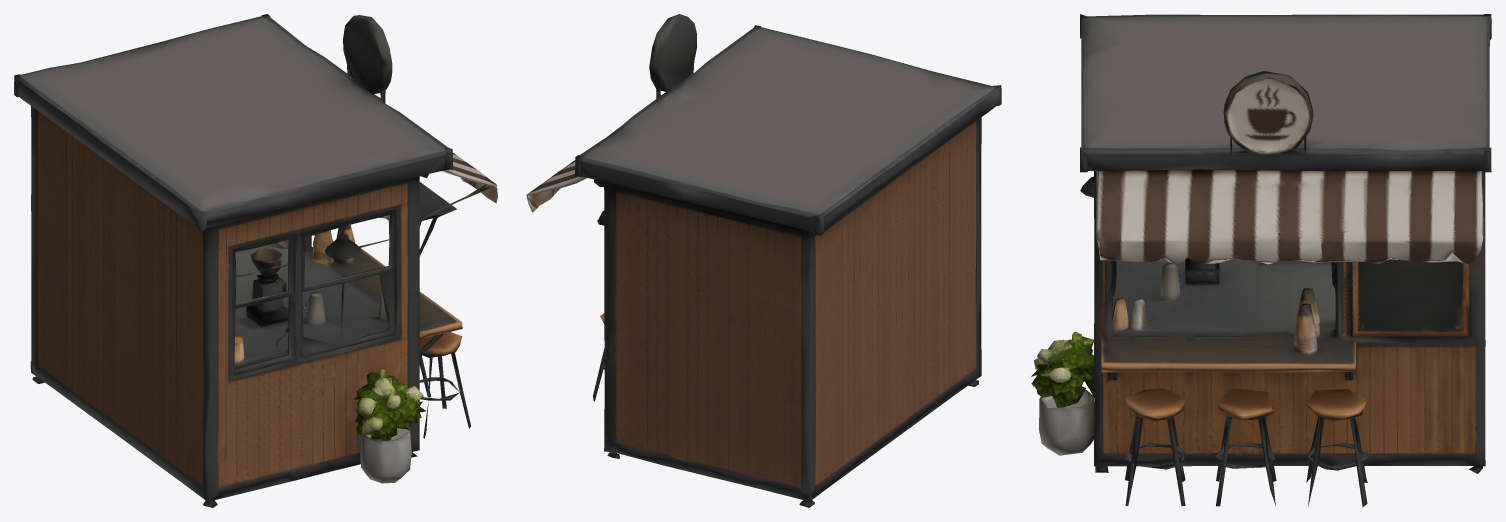
The model's file is kiosk.glb.
The picture shows the model from 3 angles, left to right: view 1: azimuth 30°, elevation 25°; view 2: azimuth 150°, elevation 25°; view 3: azimuth 270°, elevation 25°; orthographic projection. The views are drawn at different scales.
Parts seen in each view (by area): view 1: tripo_node_3f473fce-9d49-4217-a3c9-9e2602277b4c; view 2: tripo_node_3f473fce-9d49-4217-a3c9-9e2602277b4c; view 3: tripo_node_3f473fce-9d49-4217-a3c9-9e2602277b4c.
Boxes of the visible parts, bbox=[...] form: tripo_node_3f473fce-9d49-4217-a3c9-9e2602277b4c: bbox=[14, 14, 497, 507]; tripo_node_3f473fce-9d49-4217-a3c9-9e2602277b4c: bbox=[526, 14, 1001, 507]; tripo_node_3f473fce-9d49-4217-a3c9-9e2602277b4c: bbox=[1031, 14, 1491, 507].
Bounding box in the file's own units: 0.8518 × 0.9936 × 1.
Materials: 1 (1 with a texture image).
